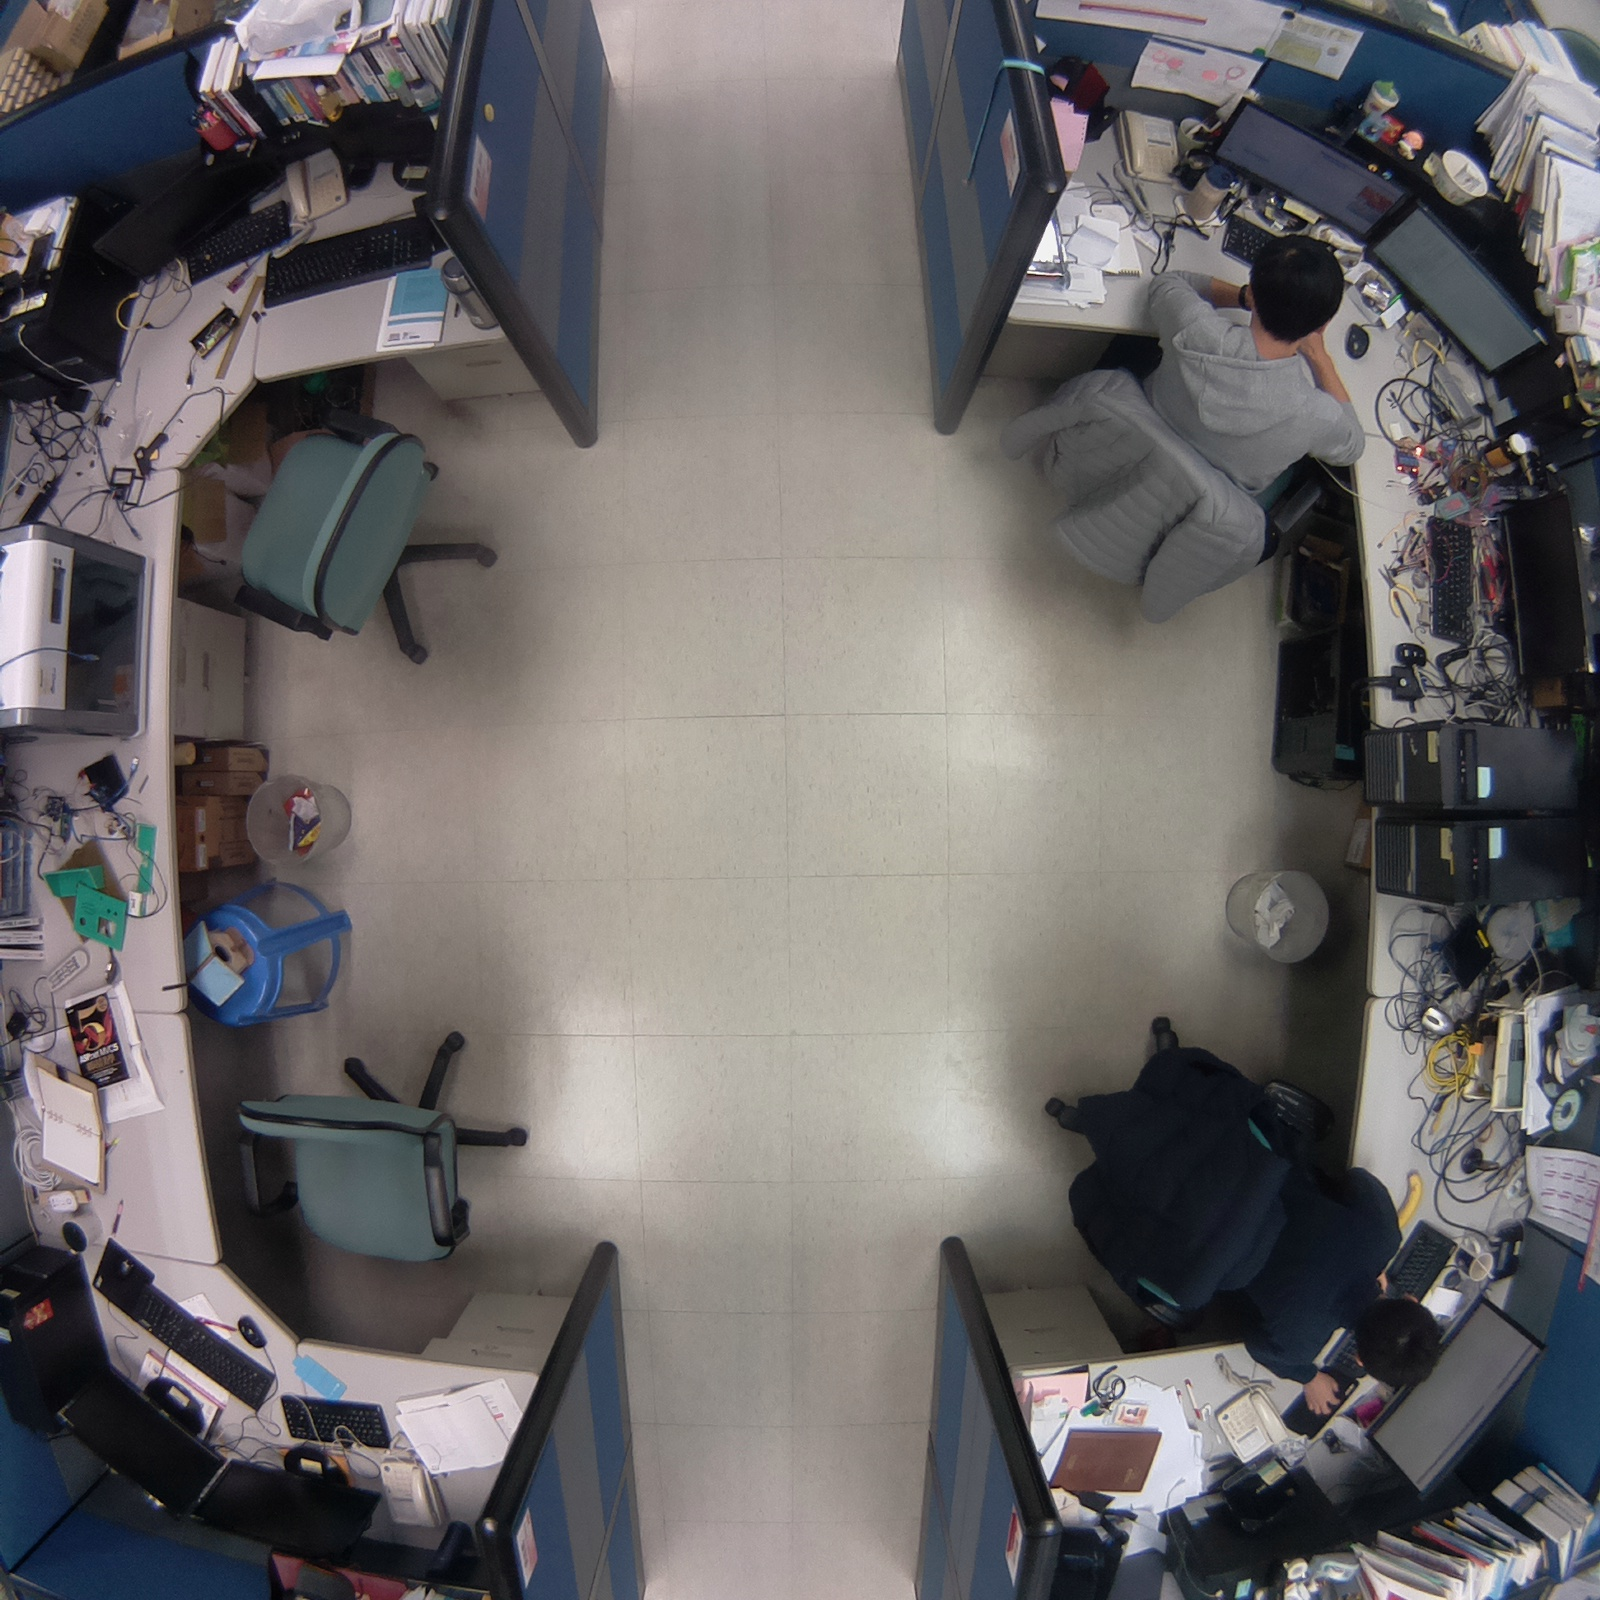chair: (163, 378, 517, 689), (212, 1024, 566, 1278)
sitting: (1018, 993, 1468, 1432), (979, 212, 1393, 629)
